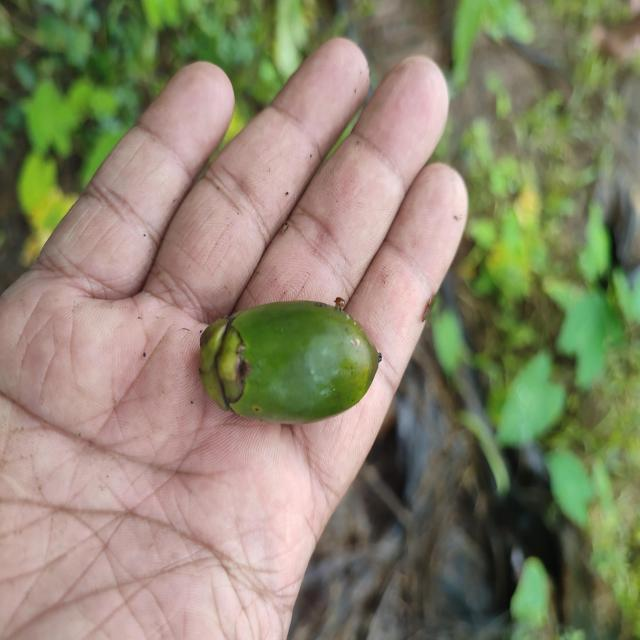damaged: (198, 302, 381, 425)
